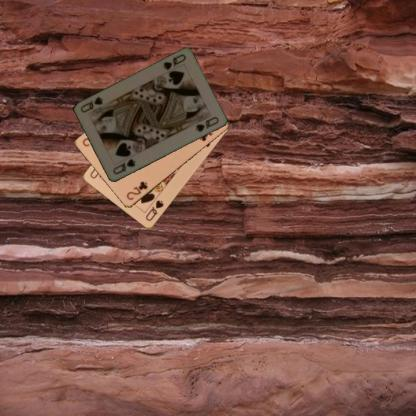2c: (124, 178, 149, 202)
Qs: (143, 198, 165, 222), (161, 52, 187, 72), (110, 157, 136, 176)
